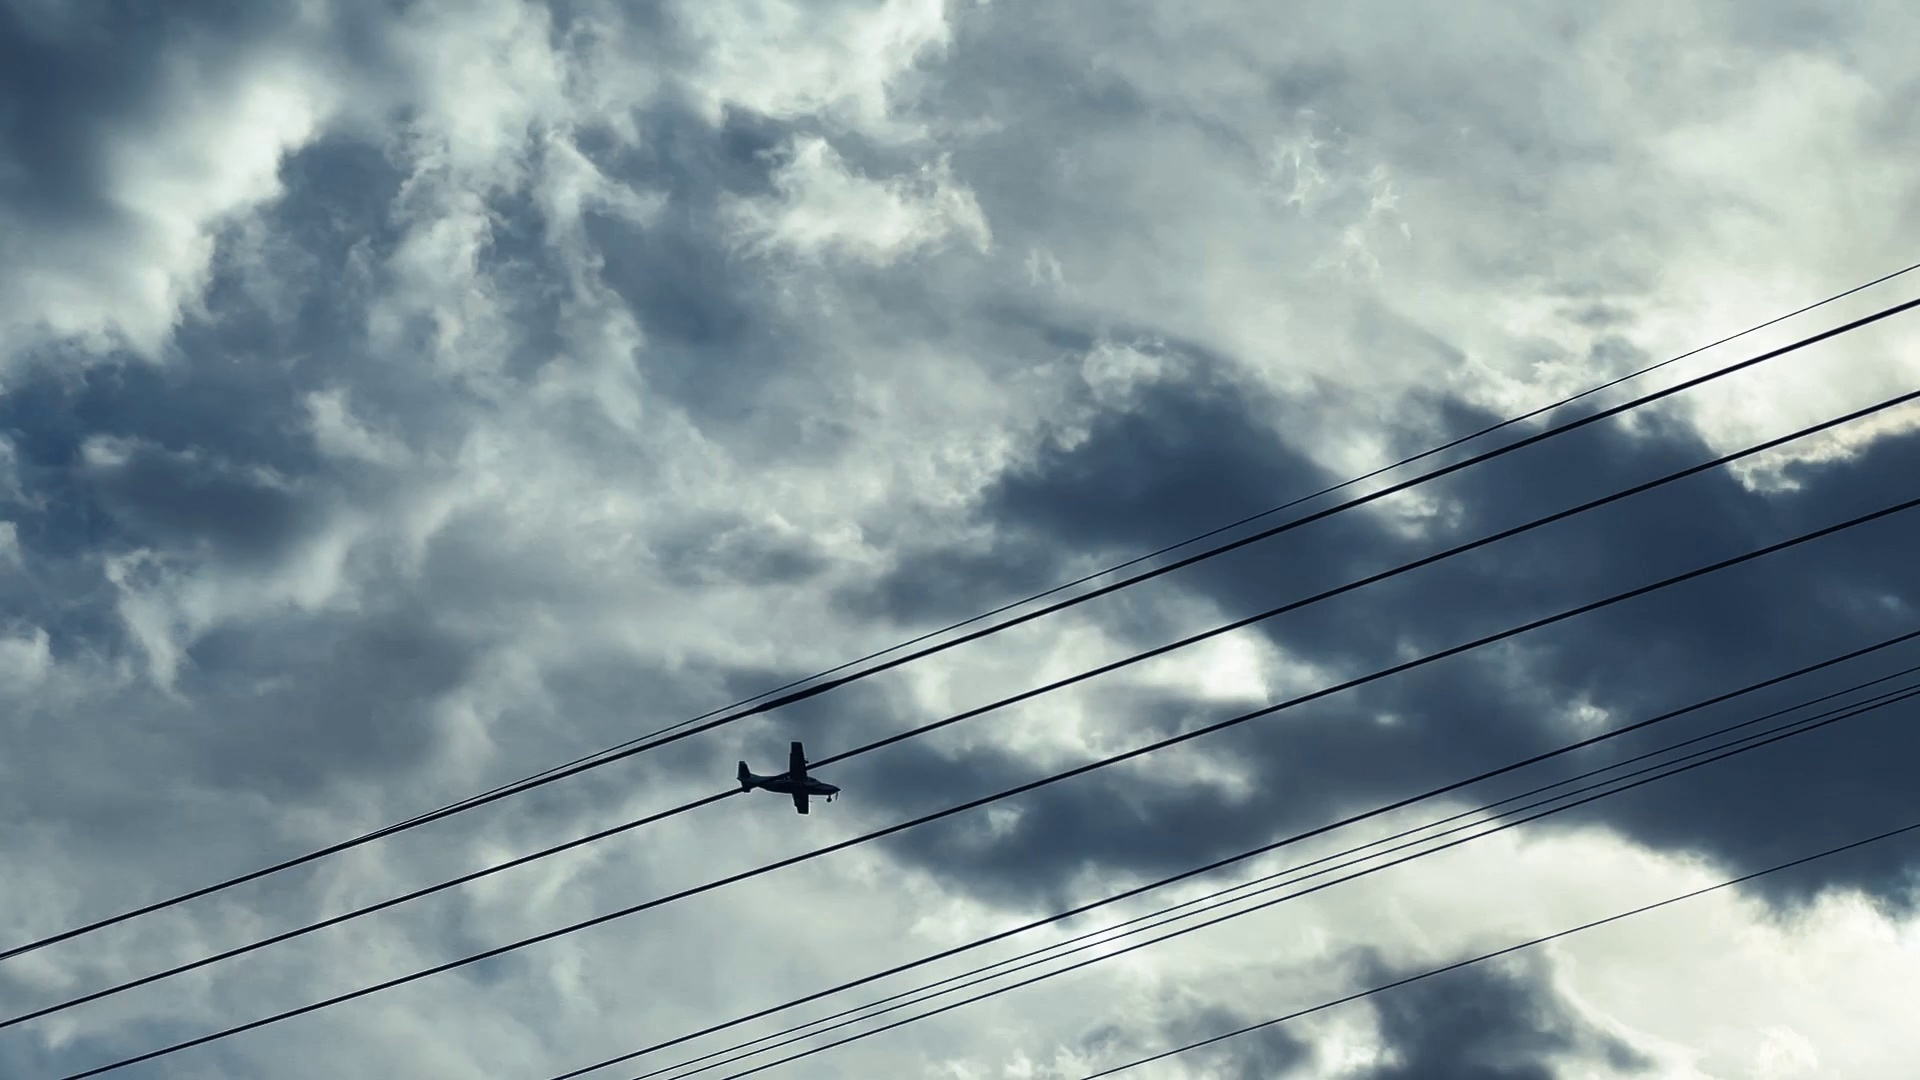plane: (736, 742, 840, 815)
